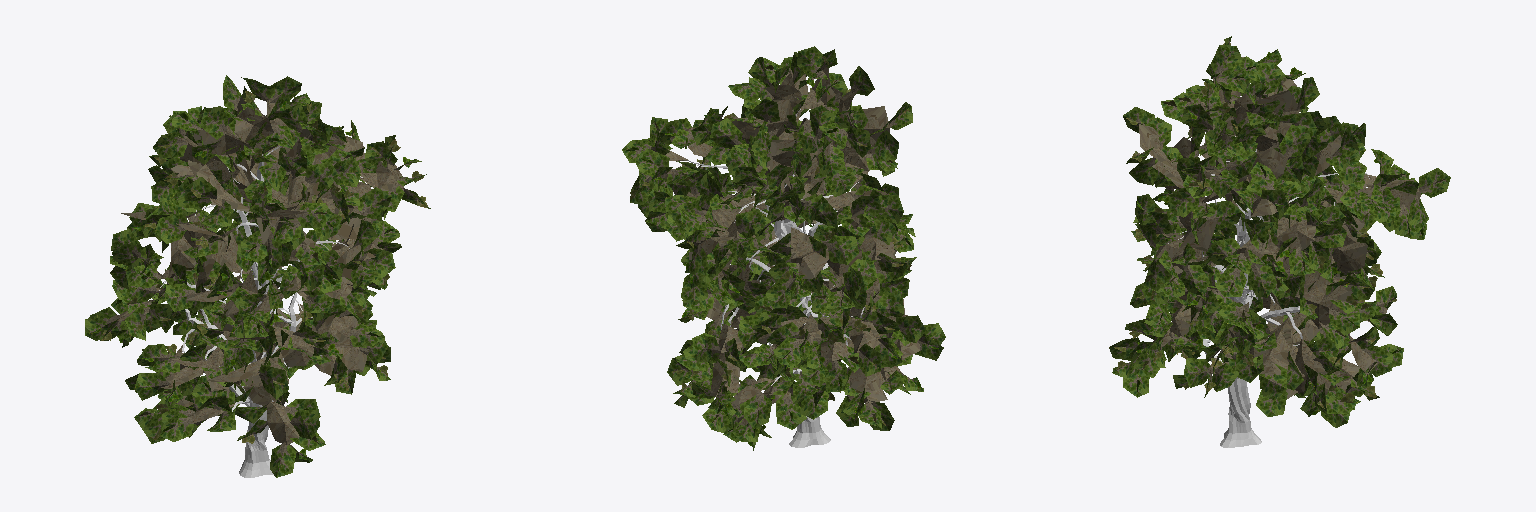
3 views of the same model, side by side, from view 1: azimuth 30°, elevation 25°; view 2: azimuth 150°, elevation 25°; view 3: azimuth 270°, elevation 25° (orthographic).
Visible parts, largest first — view 1: Oak_English_Desktop_FieldSG; view 2: Oak_English_Desktop_FieldSG; view 3: Oak_English_Desktop_FieldSG.
Part boxes in pixels (bbox=[...]): Oak_English_Desktop_FieldSG: bbox=[85, 75, 430, 477]; Oak_English_Desktop_FieldSG: bbox=[622, 46, 945, 450]; Oak_English_Desktop_FieldSG: bbox=[1109, 36, 1450, 447].
Bounding box in the file's own units: 34.88 × 42.31 × 33.84.
Materials: 5 (4 with a texture image).